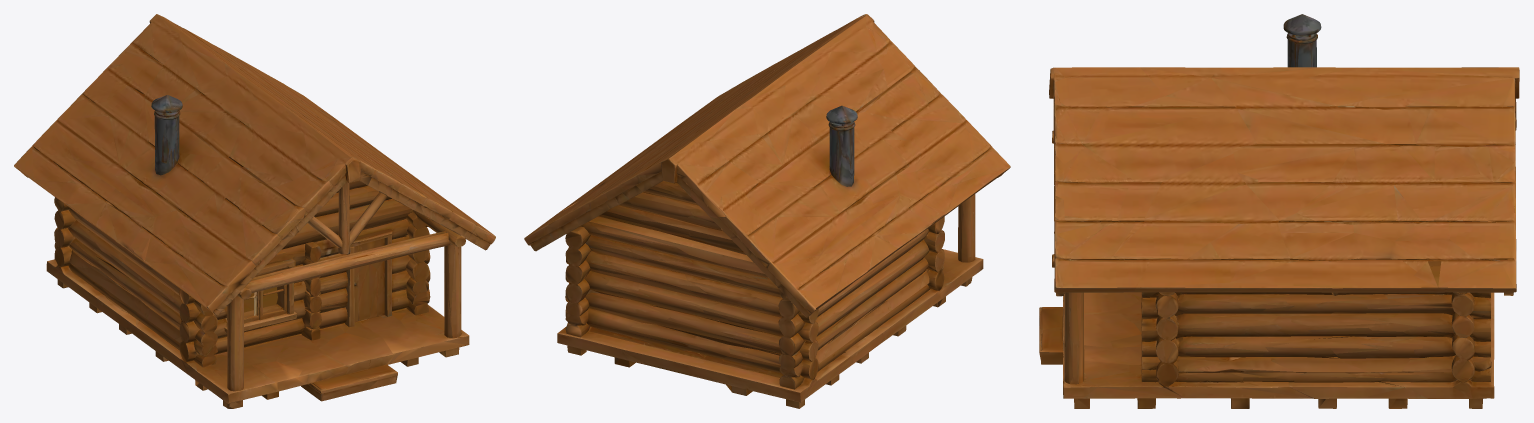
The model's file is upm_mu5vzlk36jl.glb.
3 renders of one model, left to right at view 1: azimuth 30°, elevation 25°; view 2: azimuth 150°, elevation 25°; view 3: azimuth 270°, elevation 25°, orthographic. The views are drawn at different scales.
Parts seen in each view (by area): view 1: Mesh_0; view 2: Mesh_0; view 3: Mesh_0.
Part boxes in pixels (<box>): Mesh_0: <box>14,14,495,408</box>; Mesh_0: <box>524,14,1010,408</box>; Mesh_0: <box>1039,14,1519,408</box>.
Size of the model in its own units: 1.57 by 1.23 by 1.9.
Materials: 1 (1 with a texture image).
